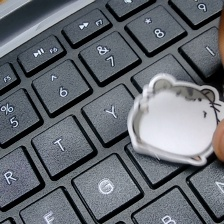mouse: (125, 69, 224, 178)
